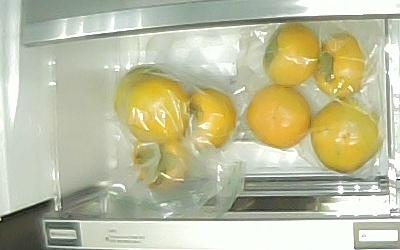persimmon_vinyl: (311, 100, 377, 173), (125, 77, 188, 144), (247, 84, 310, 150), (262, 22, 318, 86), (132, 137, 191, 196), (313, 31, 364, 98), (187, 88, 236, 149)
